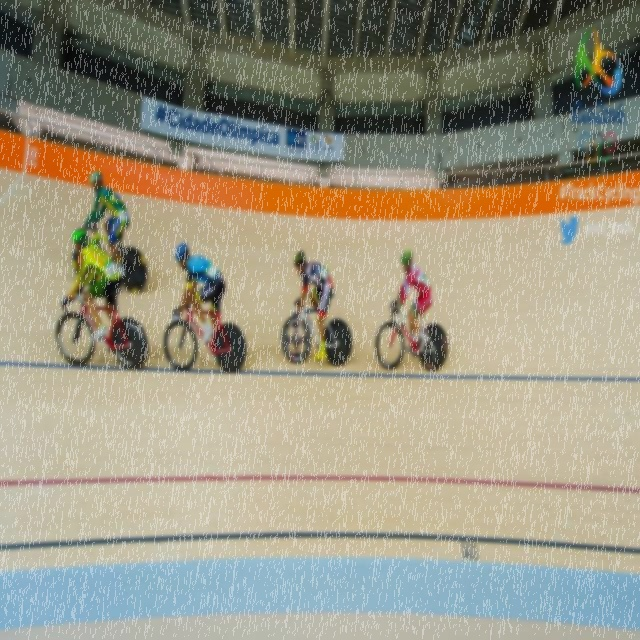pessoa: (61, 228, 122, 342), (80, 169, 132, 282), (172, 240, 226, 346), (291, 250, 334, 362), (392, 248, 433, 354)
